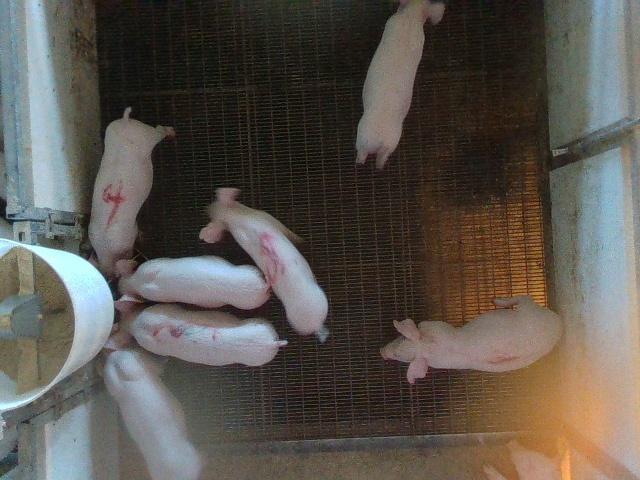pig-1: (380, 295, 562, 383)
pig-3: (106, 296, 286, 366)
pig-4: (89, 108, 175, 277)
pig-5: (200, 189, 328, 340)
